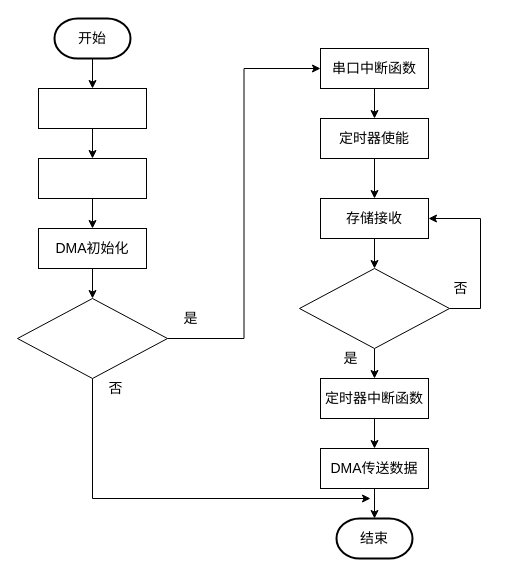
The diagram is 506 pixels wide and 576 high, and some of its shapes have lost their labels. Here are the shapes that lost their labels. From the top down, the centre of each, then its label:
(92,108): 串口初始化
(92,178): 定时器初始化
(374,308): 20ms计时是否结束
(92,338): 串口是否有数据传入
